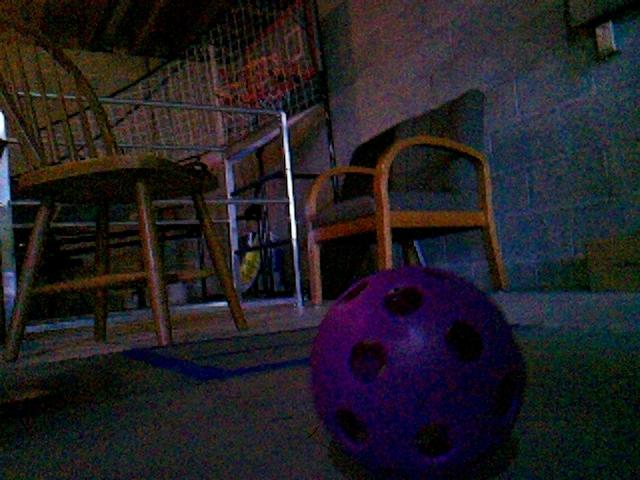Purple: (309, 264, 526, 478)
